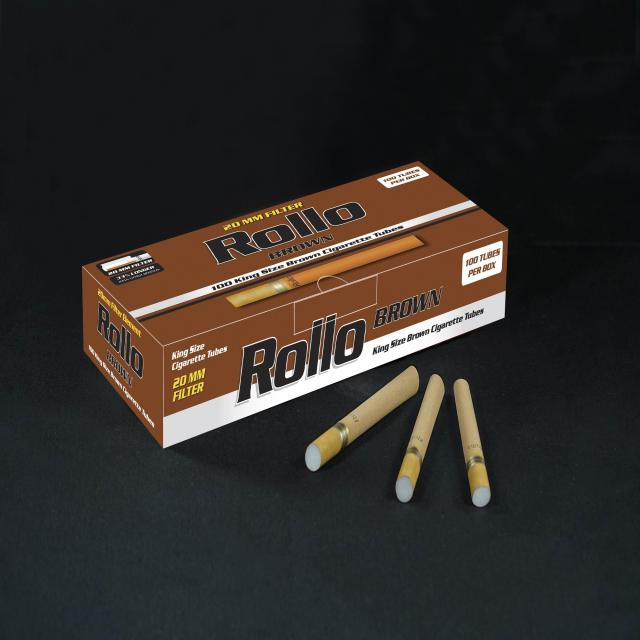cigarette: (305, 366, 420, 472), (395, 374, 445, 503), (453, 379, 491, 508)
